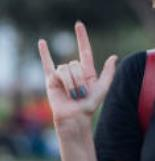back: (35, 19, 120, 117)
